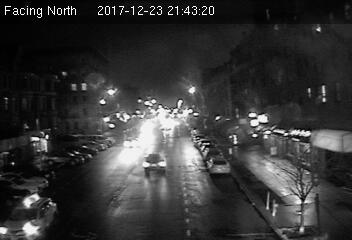car: (140, 150, 167, 171), (208, 155, 230, 174)
